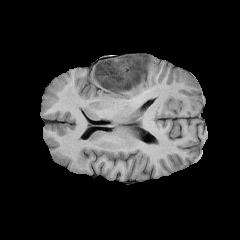glioma: (93, 55, 150, 93)
